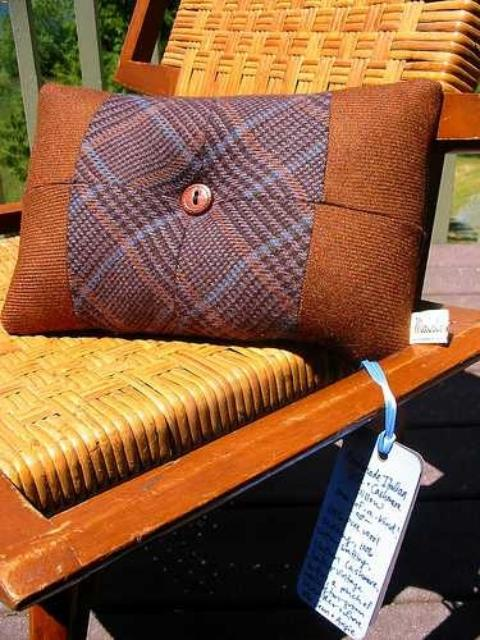pillow: (2, 78, 444, 362)
